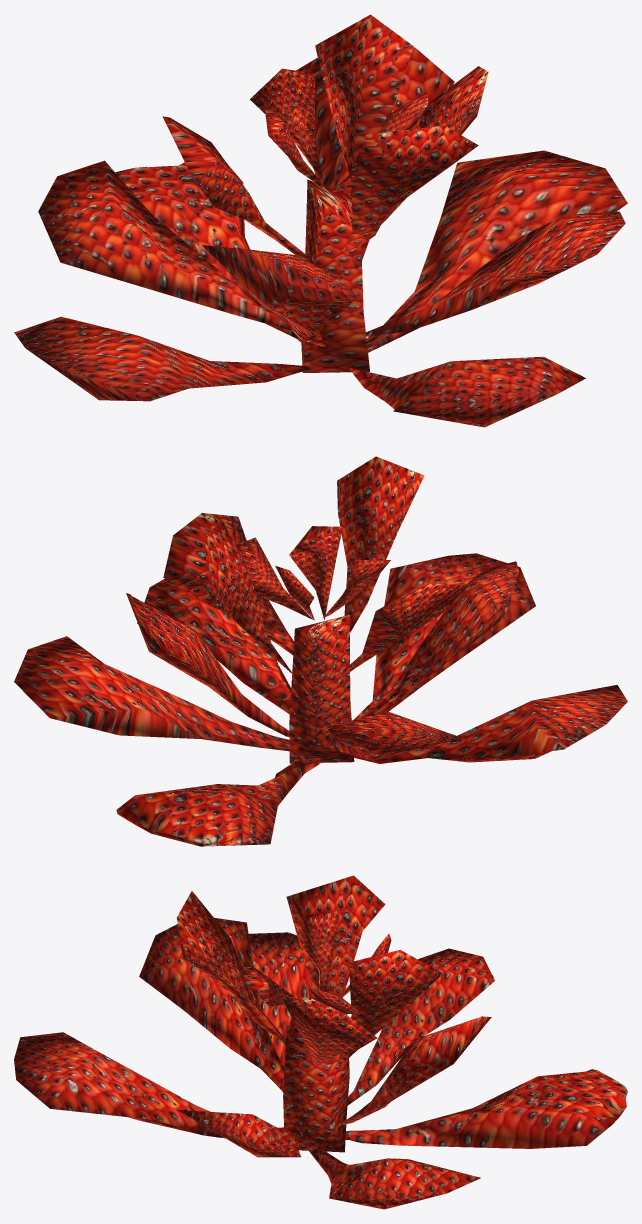
The model's file is Plant1_lod_500.obj.
The picture shows the model from 3 angles, top to bottom: view 1: azimuth 30°, elevation 25°; view 2: azimuth 150°, elevation 25°; view 3: azimuth 270°, elevation 25°; orthographic projection. The views are drawn at different scales.
Size of the model in its own units: 25.94 by 11.44 by 27.03.
